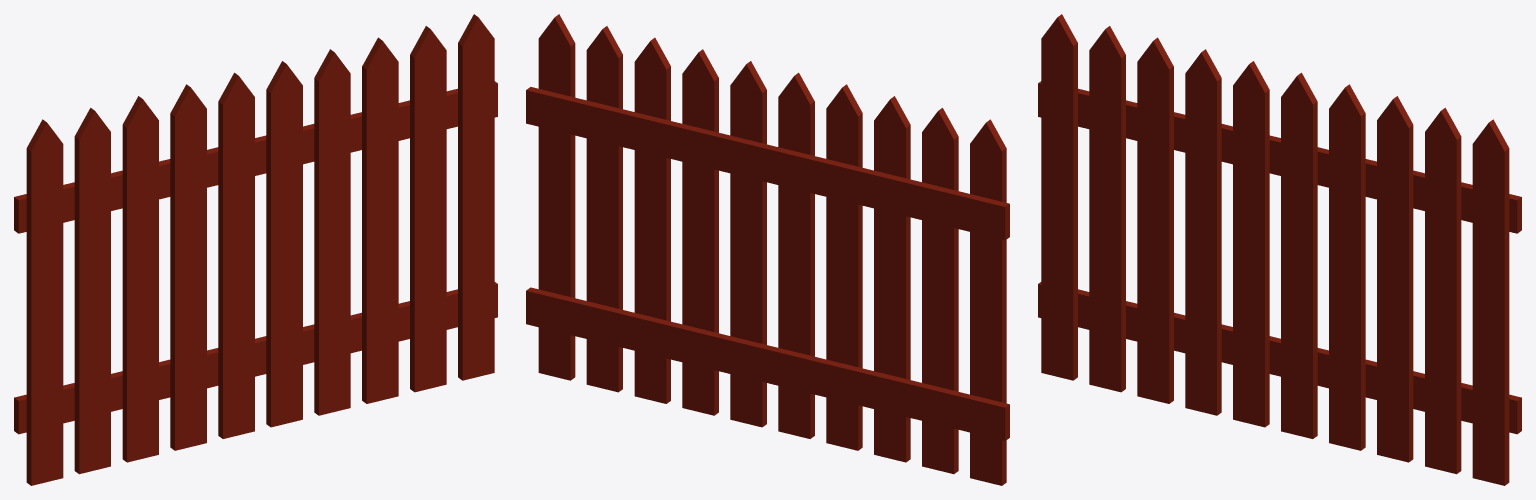
The model's file is vallaRoja.fbx_Collection 1.fbx.
3 views of the same model, side by side, from view 1: azimuth 30°, elevation 25°; view 2: azimuth 150°, elevation 25°; view 3: azimuth 330°, elevation 25° (orthographic).
Visible parts, largest first — view 1: Valla; view 2: Valla; view 3: Valla.
Part boxes in pixels (<box>): Valla: <box>14,14,497,485</box>; Valla: <box>526,14,1009,485</box>; Valla: <box>1038,14,1521,485</box>.
Bounding box in the file's own units: 300 × 215 × 10.
1 material, 1 textured.
